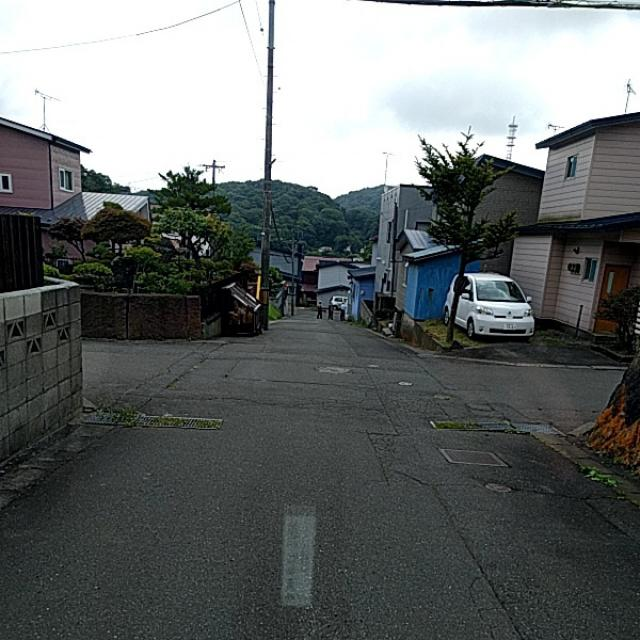pothole: (365, 362, 464, 503)
